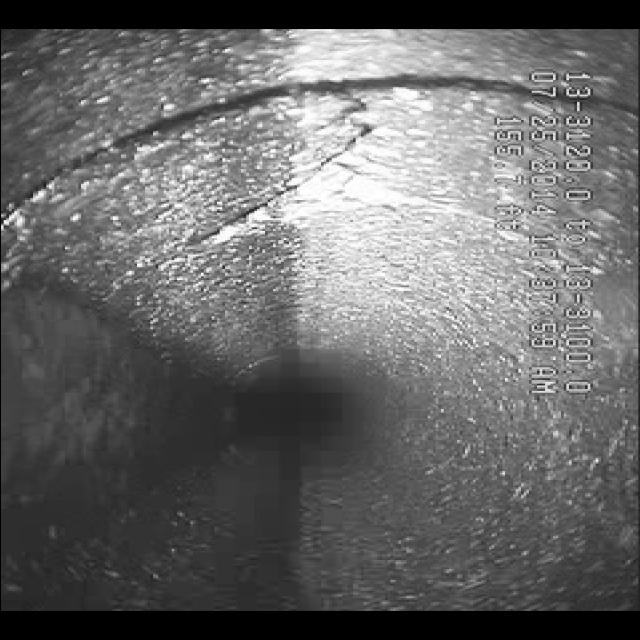Crack: (221, 95, 400, 228)
